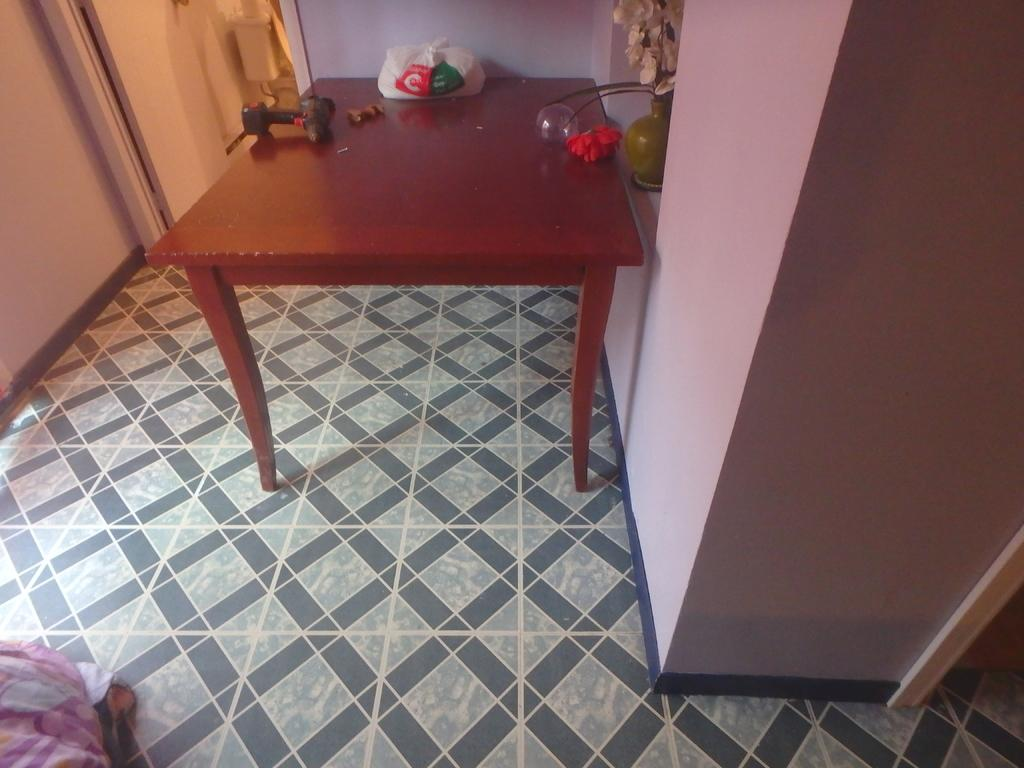Computer-monitor: (601, 0, 1021, 708)
Luggage-and-bags: (376, 35, 486, 101)
